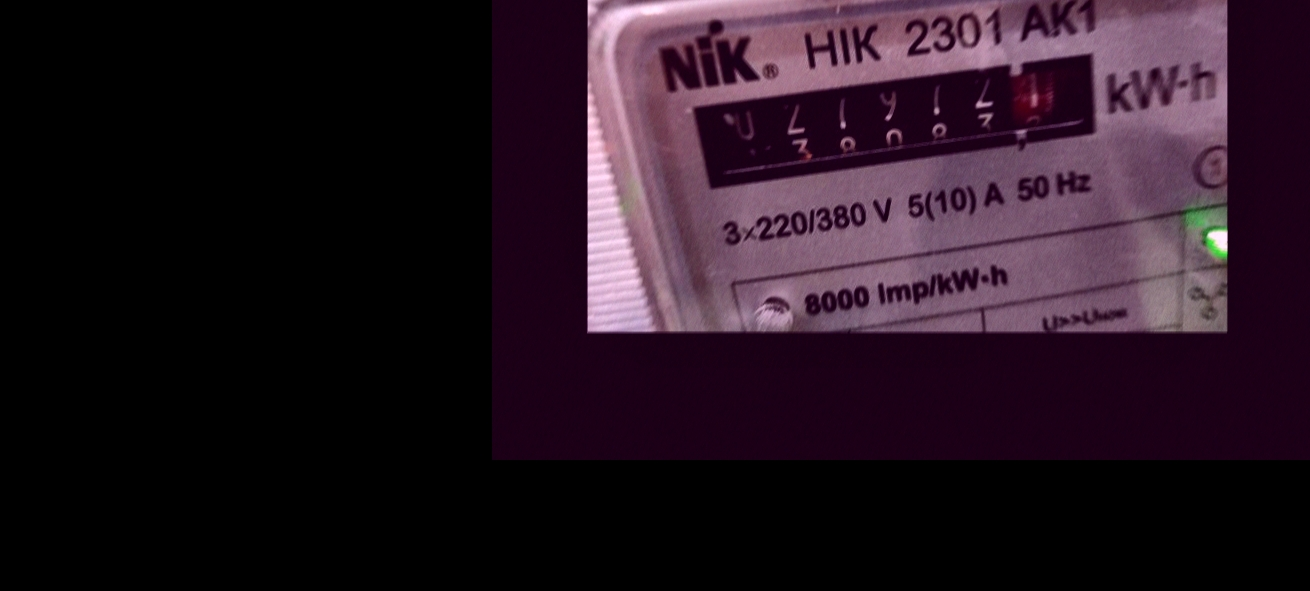0: (731, 104, 759, 140)
1: (1024, 67, 1046, 110)
2: (780, 95, 809, 134), (970, 71, 998, 108)
7: (923, 76, 949, 117), (830, 92, 853, 129)
9: (877, 85, 903, 120)
screen: (677, 43, 1130, 197)
